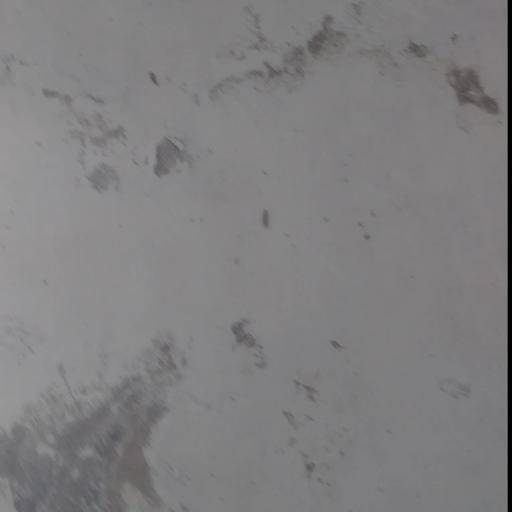peeling: (6, 308, 373, 512), (196, 0, 512, 121), (32, 74, 212, 202)
